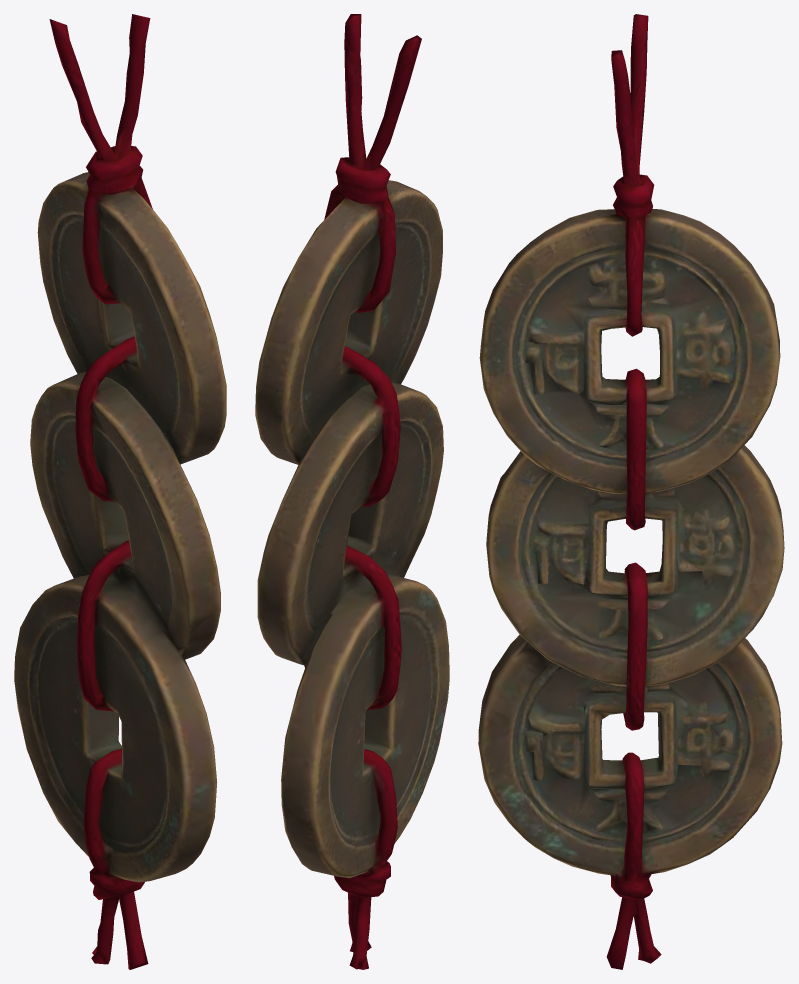
3 renders of one model, left to right at view 1: azimuth 30°, elevation 25°; view 2: azimuth 150°, elevation 25°; view 3: azimuth 270°, elevation 25°, orthographic. The views are drawn at different scales.
Parts seen in each view (by area): view 1: tripo_node_9d0e7186-f491-410a-9b19-5df68887df94; view 2: tripo_node_9d0e7186-f491-410a-9b19-5df68887df94; view 3: tripo_node_9d0e7186-f491-410a-9b19-5df68887df94.
Boxes of the visible parts, bbox=[...] form: tripo_node_9d0e7186-f491-410a-9b19-5df68887df94: bbox=[14, 14, 226, 969]; tripo_node_9d0e7186-f491-410a-9b19-5df68887df94: bbox=[255, 14, 449, 969]; tripo_node_9d0e7186-f491-410a-9b19-5df68887df94: bbox=[478, 14, 784, 969].
Bounding box in the file's own units: 0.1342 × 1 × 0.3012.
Materials: 1 (1 with a texture image).
